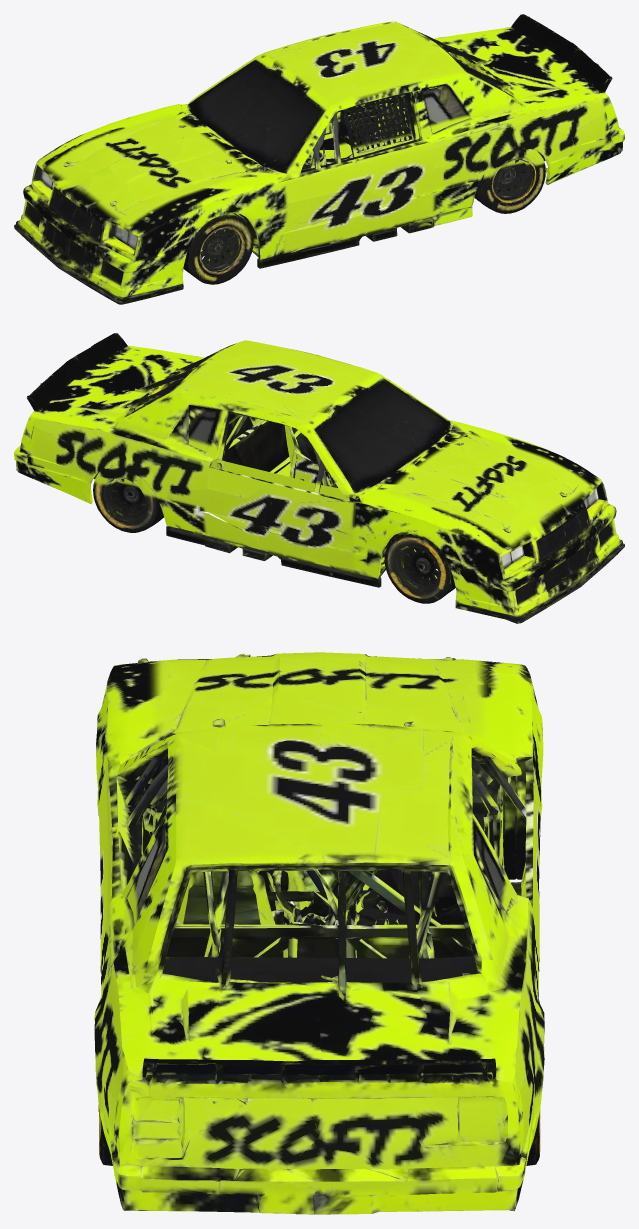
Rendered from car-43-eighties.glb.
3 views of the same model, one above another, from view 1: azimuth 30°, elevation 25°; view 2: azimuth 150°, elevation 25°; view 3: azimuth 270°, elevation 25° (orthographic). The views are drawn at different scales.
Parts seen in each view (by area): view 1: Mesh_0; view 2: Mesh_0; view 3: Mesh_0.
Boxes of the visible parts, x1,y1,x2,y2 form: Mesh_0: [14, 14, 624, 304]; Mesh_0: [14, 333, 624, 623]; Mesh_0: [94, 652, 544, 1214].
Size of the model in its own units: 1.9 by 0.4939 by 0.7096.
Materials: 1 (1 with a texture image).
